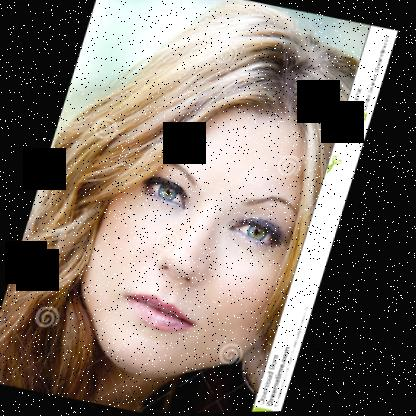Female: (59, 75, 345, 400)
